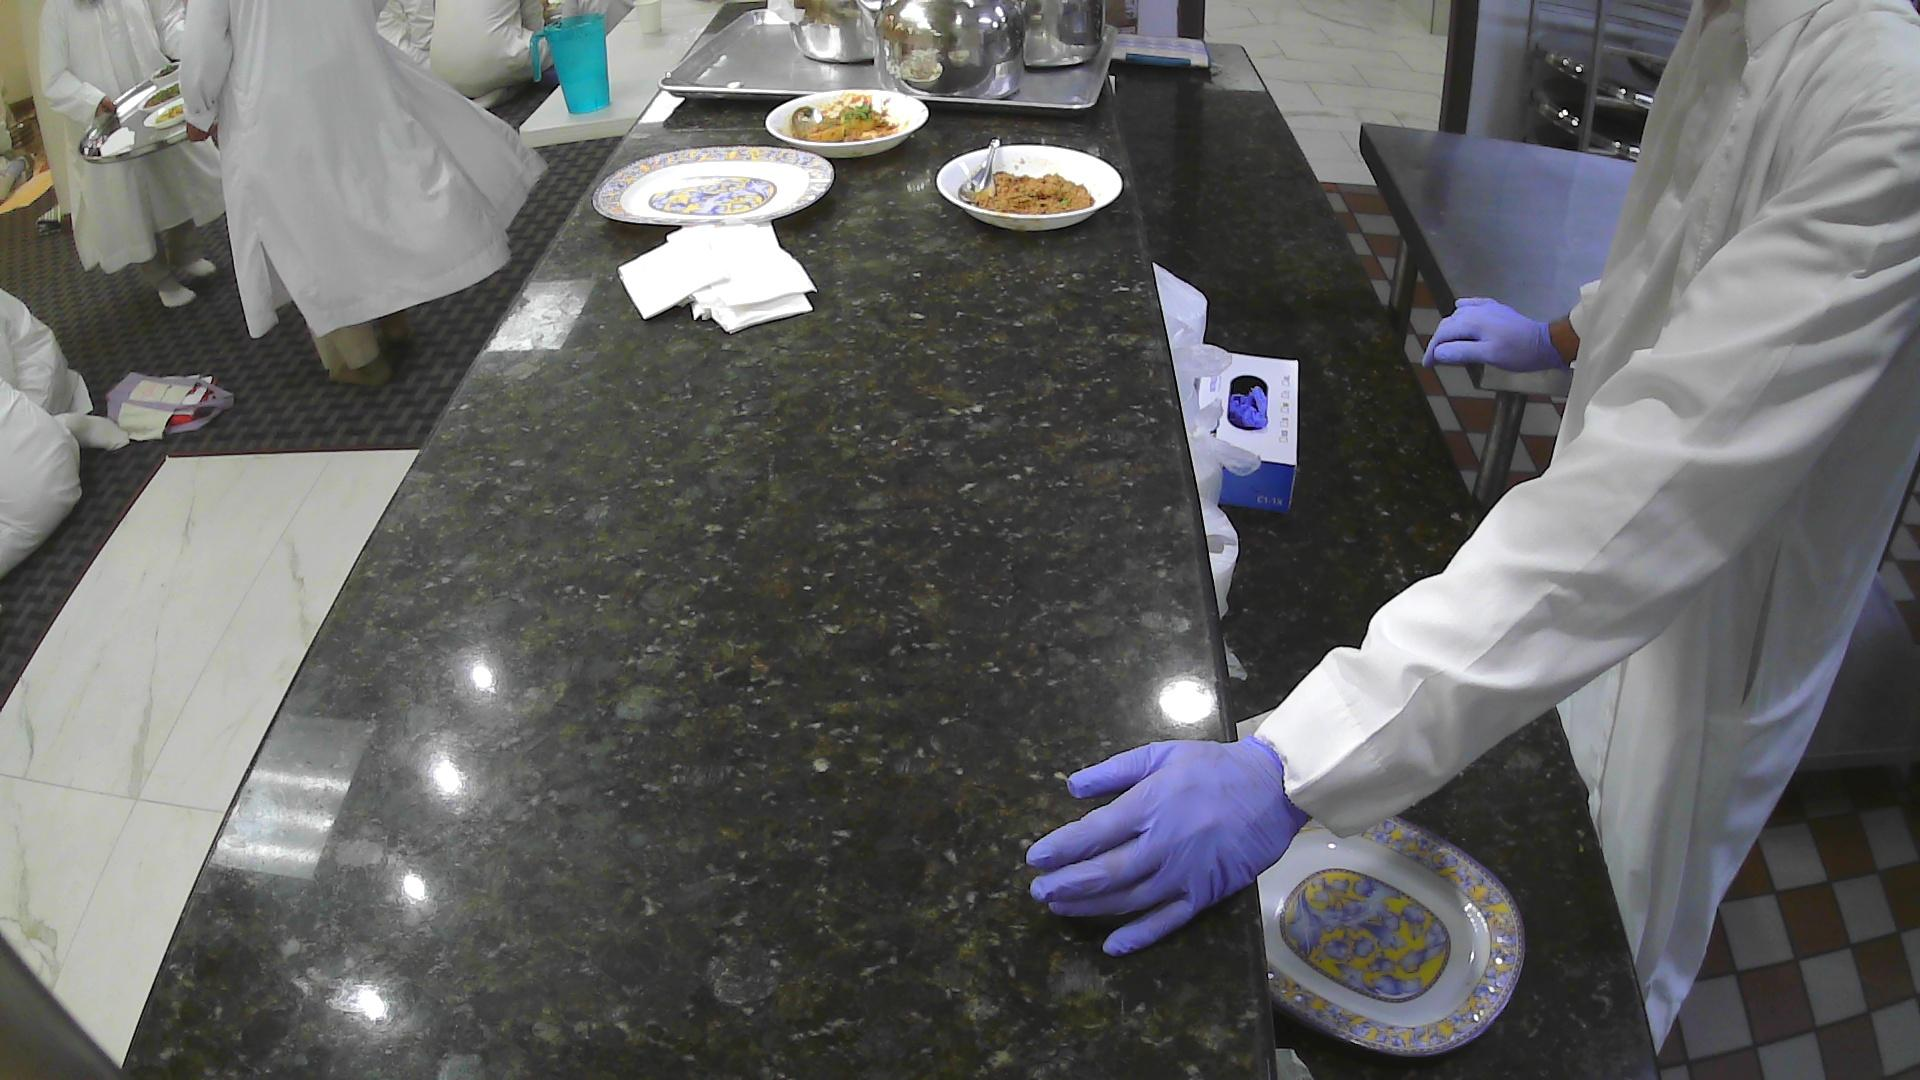thaal: (78, 48, 254, 167)
